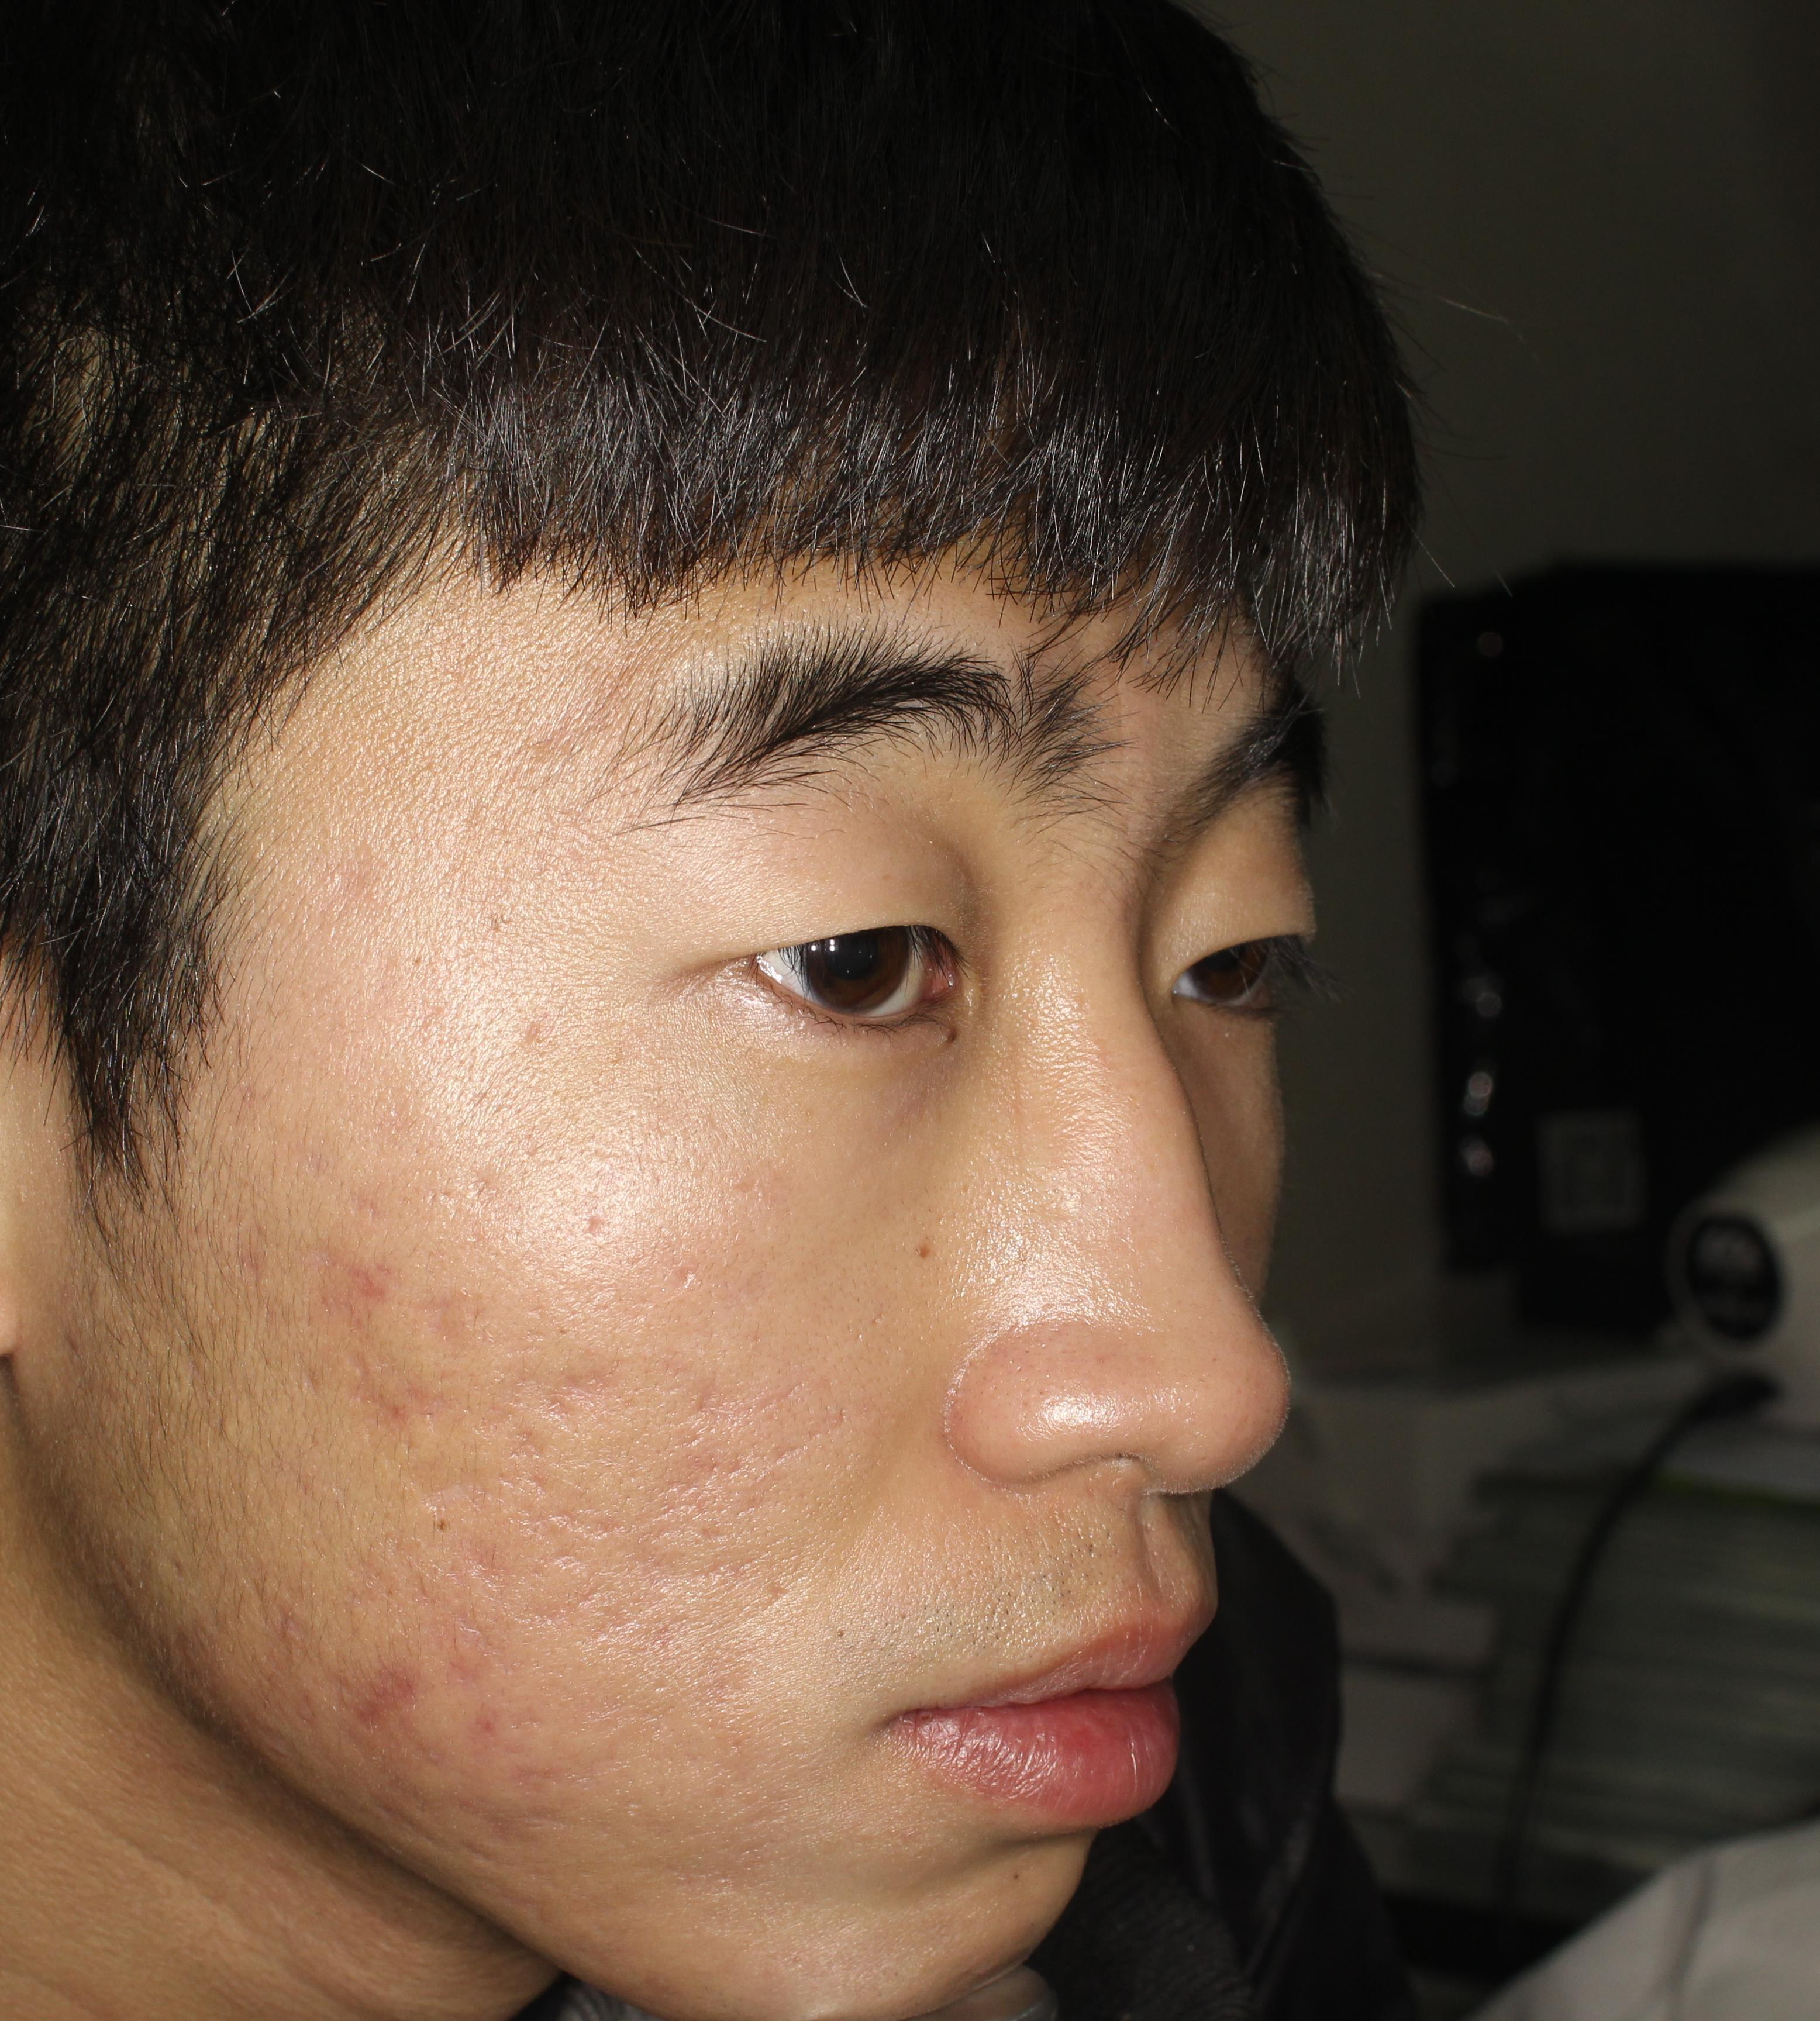fore: (467, 1765, 571, 1840), (346, 1361, 436, 1447), (337, 1638, 413, 1737), (329, 1231, 378, 1298), (427, 1629, 485, 1679), (450, 1684, 499, 1733)
